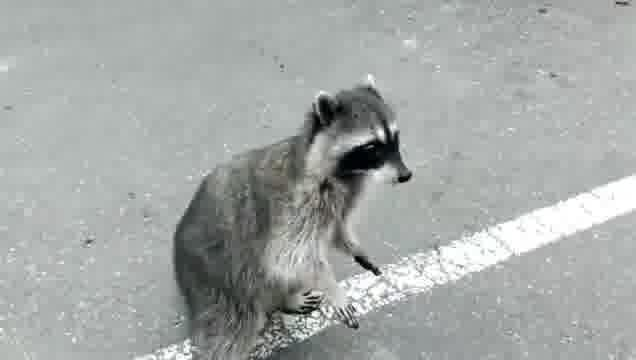raccoon: (171, 72, 412, 360)
